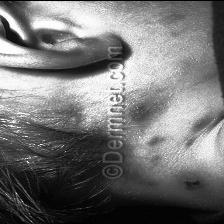Toxin: (174, 171, 208, 195), (124, 104, 155, 124)
